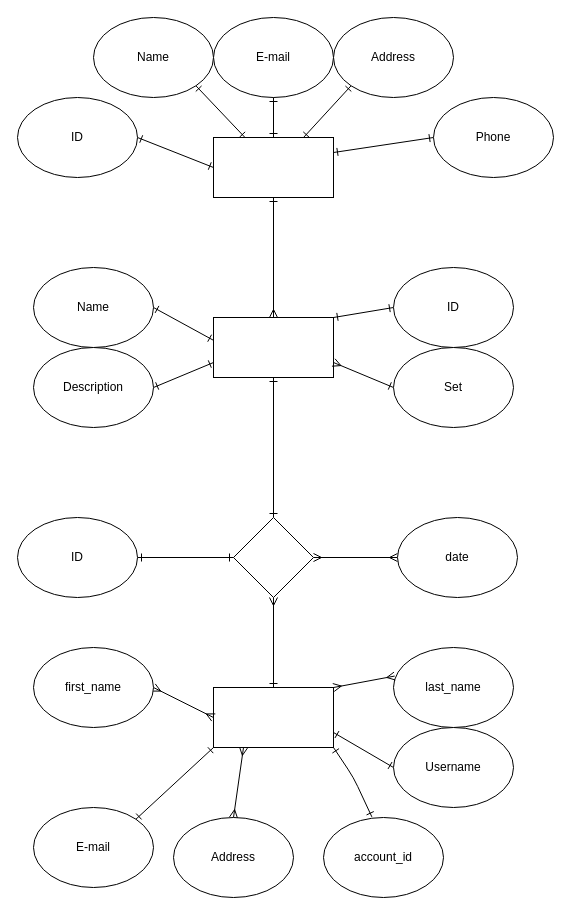
This 571x915 diagram has some shape labels left out. The centre of each missing label's shape, as x and y in pixels:
"Company" belongs at [273,167].
"Customer" belongs at [273,717].
"Product" belongs at [273,347].
"transaction" belongs at [273,557].
